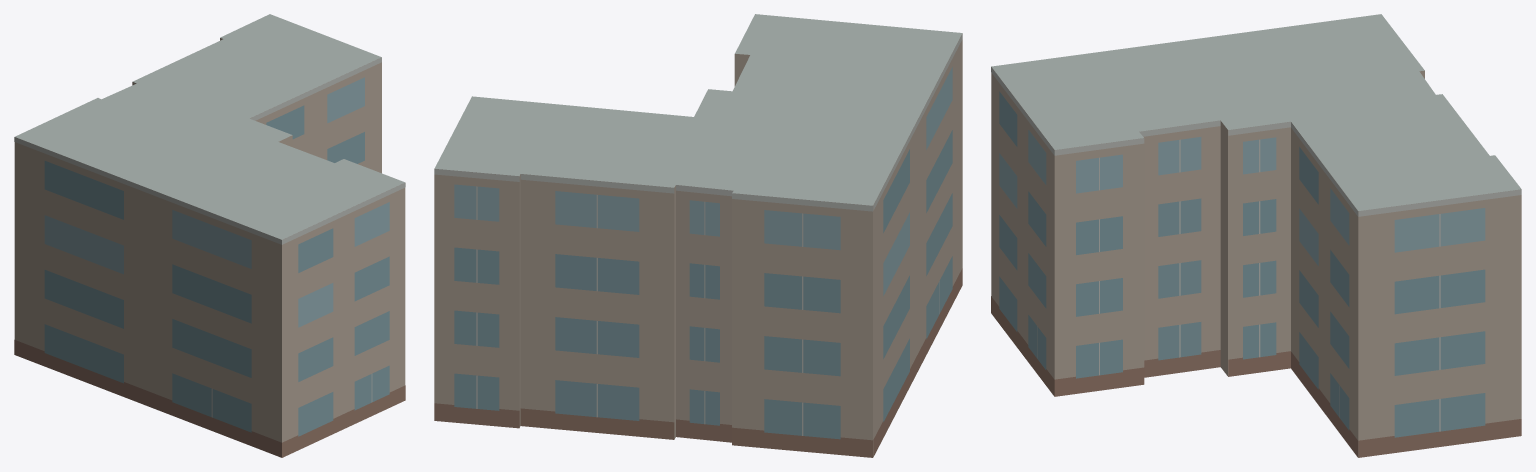
Rendered from survey-upis-32617808.glb.
The picture shows the model from 3 angles, left to right: view 1: azimuth 30°, elevation 25°; view 2: azimuth 150°, elevation 25°; view 3: azimuth 270°, elevation 25°; orthographic projection. The views are drawn at different scales.
Visible parts, largest first — view 1: survey-upis-32617808.tmp; view 2: survey-upis-32617808.tmp; view 3: survey-upis-32617808.tmp.
Part boxes in pixels (x1,y1,x2,y2): survey-upis-32617808.tmp: (14, 14, 405, 457); survey-upis-32617808.tmp: (434, 14, 962, 457); survey-upis-32617808.tmp: (991, 14, 1521, 457).
Size of the model in its own units: 18.18 by 10.6 by 20.67.
